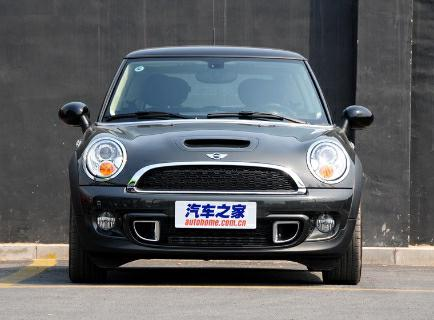MINI: (50, 56, 375, 284)
